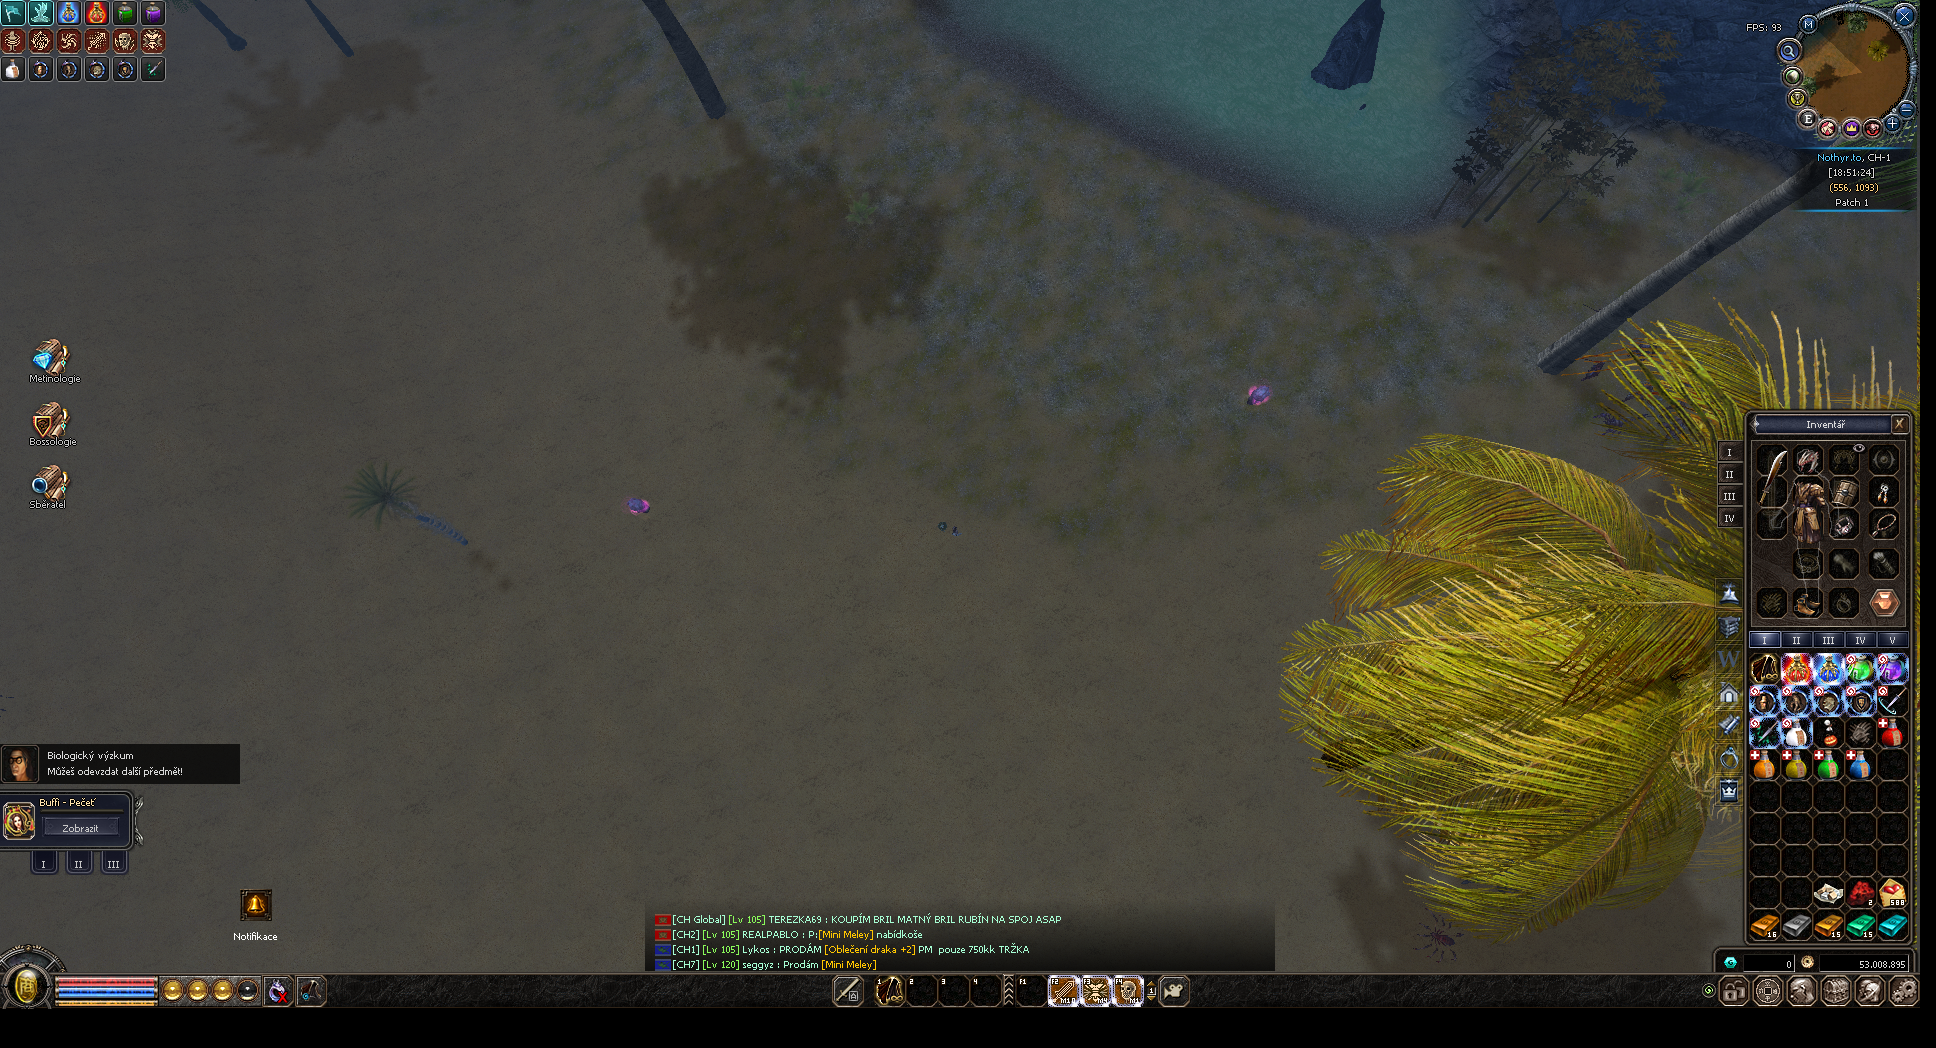Buff: (1245, 385, 1271, 405), (626, 498, 650, 515)
Me: (937, 521, 946, 530)
